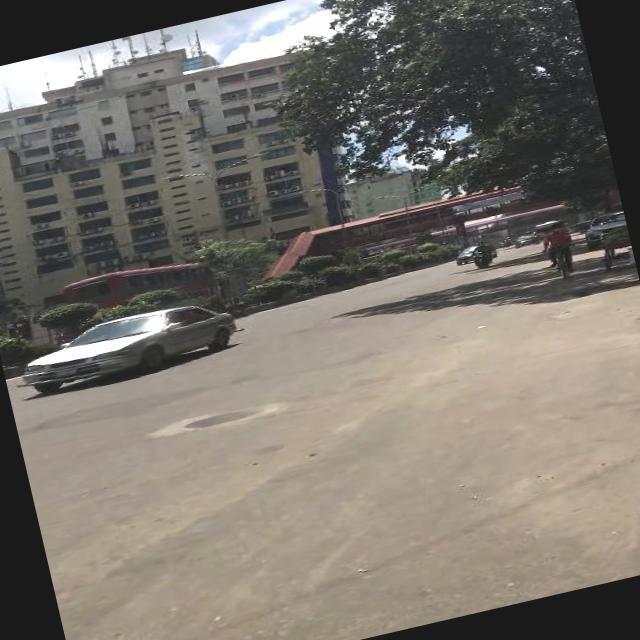car: (7, 290, 245, 400), (452, 240, 494, 264), (512, 229, 539, 247)
motorcycle: (464, 237, 496, 272)
truck: (578, 208, 626, 250)
